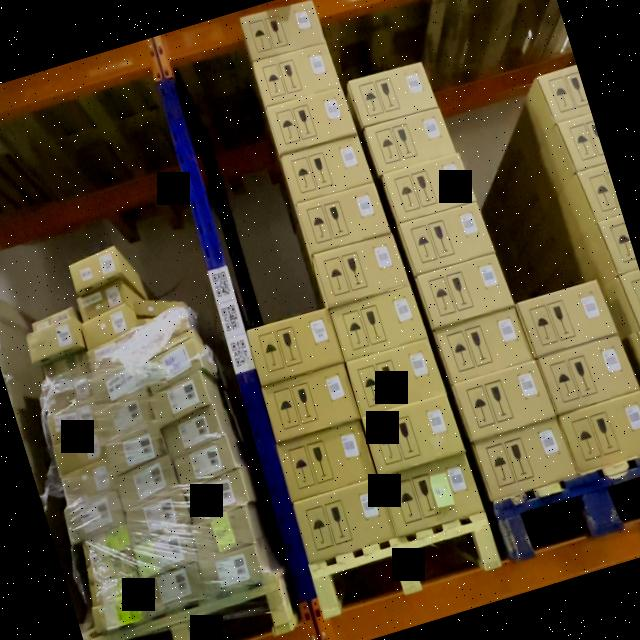box: (292, 478, 396, 563), (473, 418, 576, 500), (451, 360, 554, 442), (362, 394, 463, 477), (380, 453, 483, 534), (537, 334, 639, 415), (276, 420, 377, 501), (262, 362, 361, 442), (247, 306, 345, 386), (345, 340, 445, 418), (435, 306, 533, 385), (517, 279, 615, 356), (416, 253, 514, 329), (313, 231, 410, 307), (330, 284, 426, 360), (397, 200, 493, 275), (295, 180, 389, 254), (559, 389, 640, 471), (382, 154, 475, 224), (280, 134, 372, 204), (363, 107, 455, 175), (346, 60, 438, 128), (265, 85, 354, 155), (252, 42, 340, 105), (239, 0, 325, 63), (186, 467, 248, 523), (117, 454, 178, 510), (139, 563, 205, 614), (125, 489, 190, 540), (134, 527, 199, 578), (152, 368, 210, 425), (199, 543, 265, 593), (63, 491, 125, 544), (142, 335, 202, 389), (105, 422, 167, 474), (189, 506, 254, 554), (174, 435, 236, 484), (94, 391, 156, 440), (85, 359, 147, 408), (163, 406, 223, 456), (133, 308, 189, 353), (46, 397, 97, 445), (26, 317, 79, 363), (53, 430, 106, 476), (61, 459, 112, 505), (82, 306, 131, 353), (41, 372, 94, 414), (68, 246, 120, 288), (82, 525, 134, 567), (78, 280, 130, 321), (91, 594, 146, 632), (85, 332, 134, 371), (89, 573, 141, 606), (42, 352, 88, 385), (86, 556, 138, 582), (32, 307, 75, 331), (133, 300, 183, 316)
